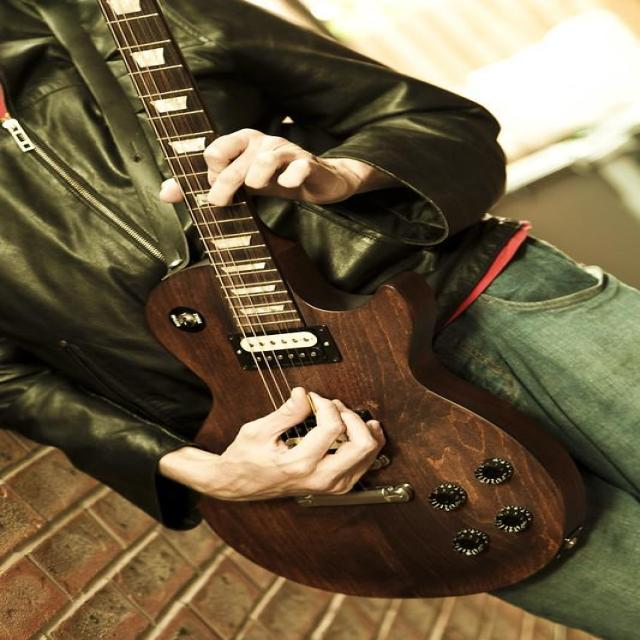guitar: (101, 0, 583, 596)
